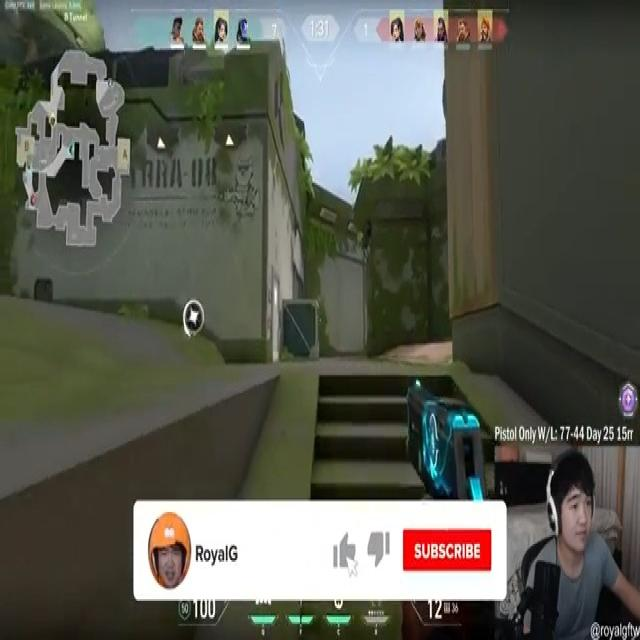orb: (183, 299, 204, 338)
